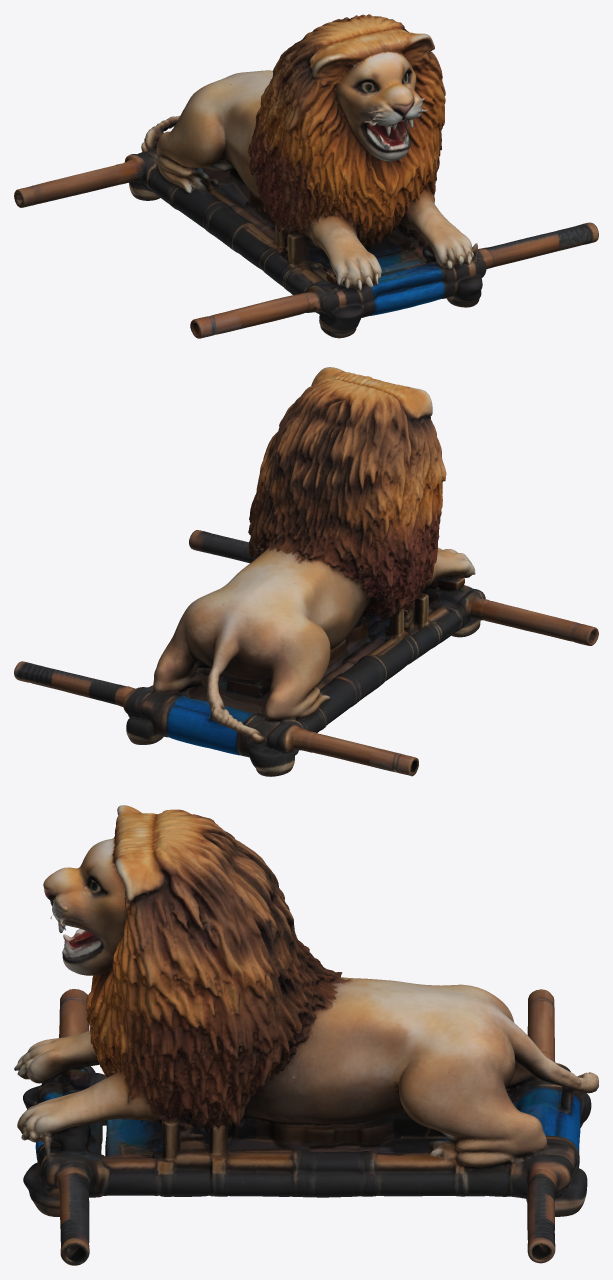
File: compressed-patung_singa.glb
3 views of the same model, one above another, from view 1: azimuth 30°, elevation 25°; view 2: azimuth 150°, elevation 25°; view 3: azimuth 270°, elevation 25° (orthographic). The views are drawn at different scales.
Bounding box in the file's own units: 2 × 1.25 × 1.93.
1 material, 1 textured.
